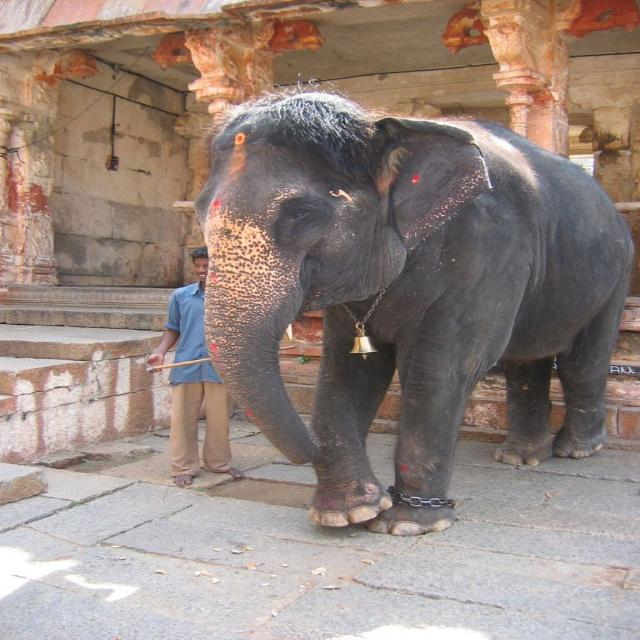elephant: (154, 92, 623, 536)
